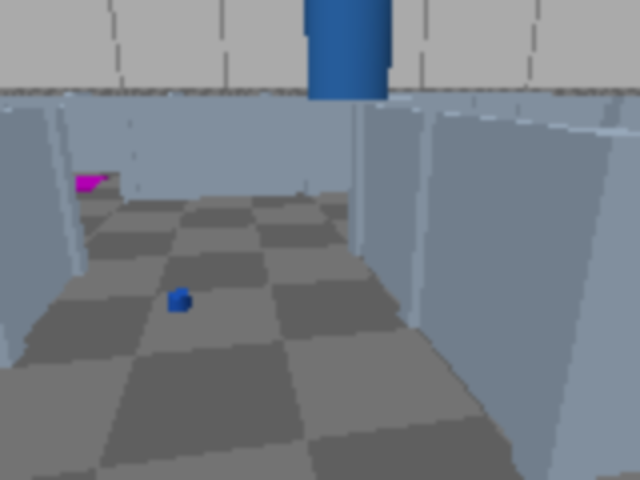puck: (168, 290, 190, 313)
